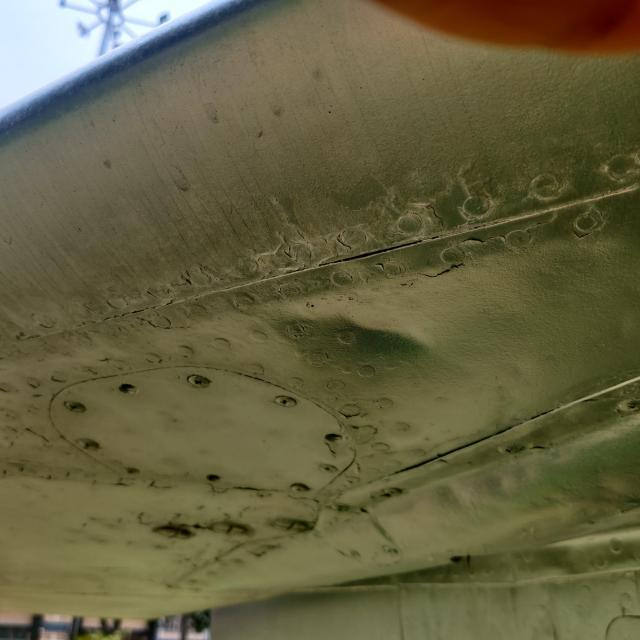dent: (269, 271, 454, 404)
missing-head: (105, 366, 155, 413), (311, 417, 359, 458), (193, 458, 234, 498)
